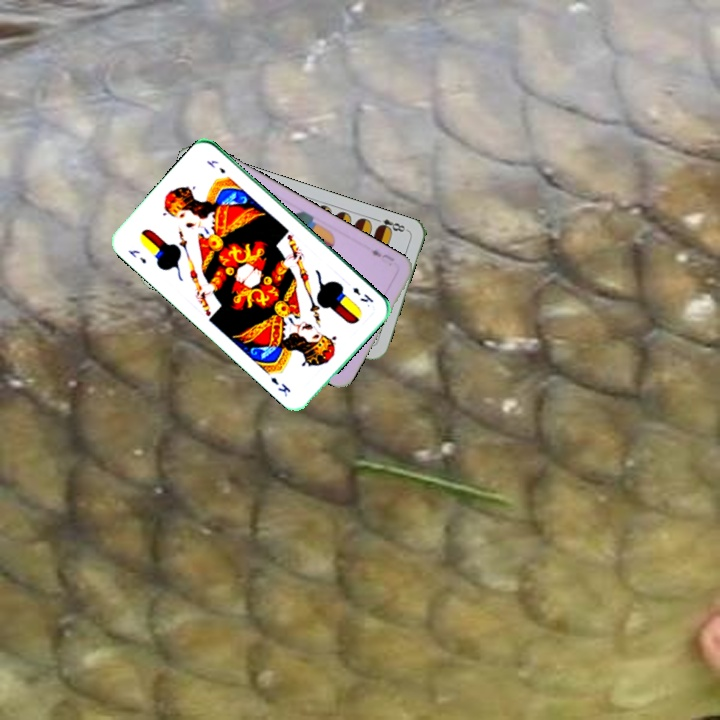E8: (371, 214, 410, 235)
EK: (349, 283, 376, 305), (124, 246, 149, 266)
EU: (367, 245, 397, 265)
